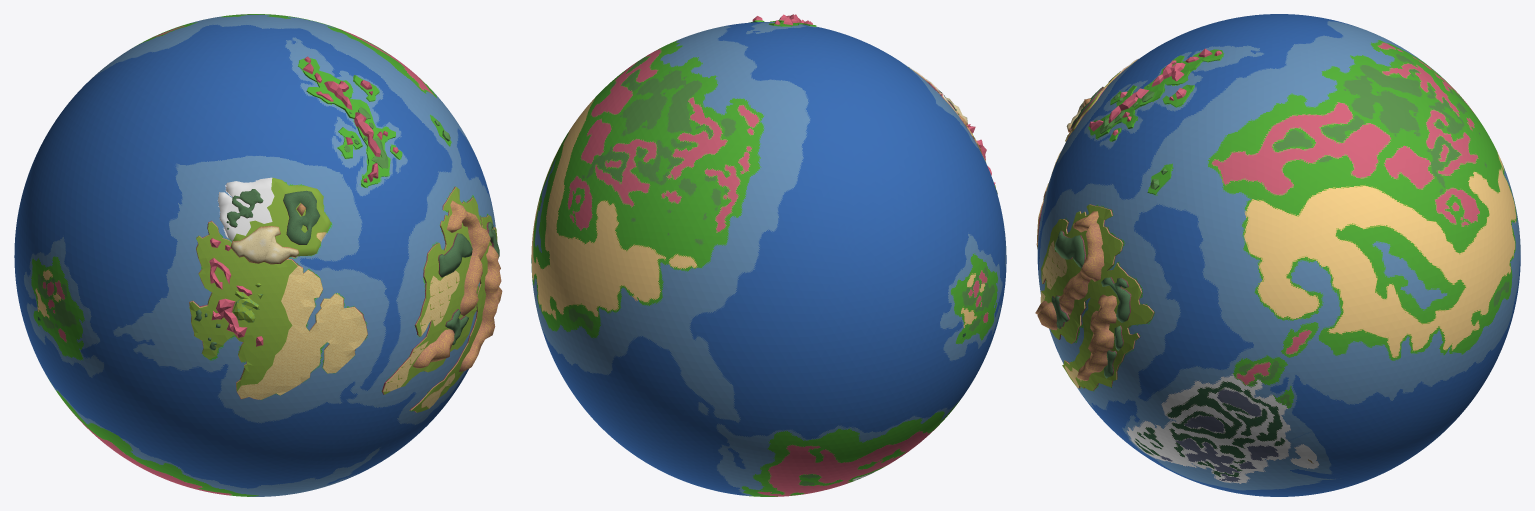
File: midgard.glb
3 renders of one model, left to right at view 1: azimuth 30°, elevation 25°; view 2: azimuth 150°, elevation 25°; view 3: azimuth 270°, elevation 25°, orthographic.
Visible parts, largest first — view 1: Water, FierroHavoc, Water.001, Water.002, Aleko, Yamashiru.Island, Aleko.Forests, Aleko.Mountains, Water.006, Fierro.Mountains, Fierro.Mountains.002, Fierro.PhamasForest; view 2: Water; view 3: Water, Water.001, Water.002, Yamashiru.Island, Water.005, Water.006.
Boxes of the visible parts, x1=… form: Water: x1=14, y1=14, x2=495, y2=496; FierroHavoc: x1=189, y1=220, x2=367, y2=399; Water.001: x1=382, y1=187, x2=497, y2=412; Water.002: x1=413, y1=200, x2=502, y2=371; Aleko: x1=218, y1=177, x2=330, y2=256; Yamashiru.Island: x1=298, y1=56, x2=395, y2=187; Aleko.Forests: x1=226, y1=189, x2=320, y2=244; Aleko.Mountains: x1=230, y1=226, x2=298, y2=264; Water.006: x1=438, y1=233, x2=472, y2=277; Fierro.Mountains: x1=211, y1=298, x2=263, y2=346; Fierro.Mountains.002: x1=209, y1=238, x2=252, y2=295; Fierro.PhamasForest: x1=232, y1=291, x2=259, y2=322; Water: x1=531, y1=22, x2=1006, y2=496; Water: x1=1037, y1=14, x2=1520, y2=496; Water.001: x1=1040, y1=204, x2=1154, y2=390; Water.002: x1=1035, y1=211, x2=1116, y2=380; Yamashiru.Island: x1=1088, y1=48, x2=1223, y2=138; Water.005: x1=1101, y1=277, x2=1131, y2=378; Water.006: x1=1054, y1=230, x2=1085, y2=268.
Size of the model in its own units: 2 by 2 by 2.01.
Materials: 8 (8 with a texture image).
